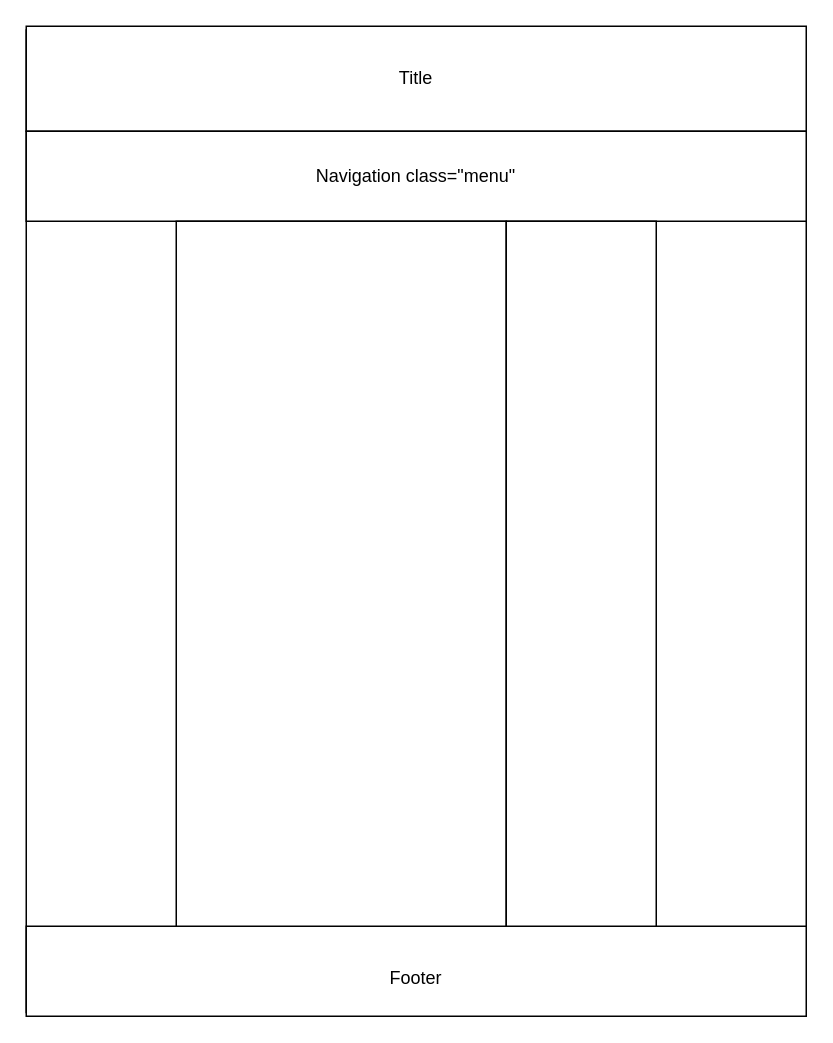
The diagram is 833 pixels wide and 1043 high, and some of its shapes have lost their labels. Here are the shapes that lost their labels. From the top down, the centre of each, then its label:
At point 340,573: "Main Content".
At point 580,573: "Widget".
